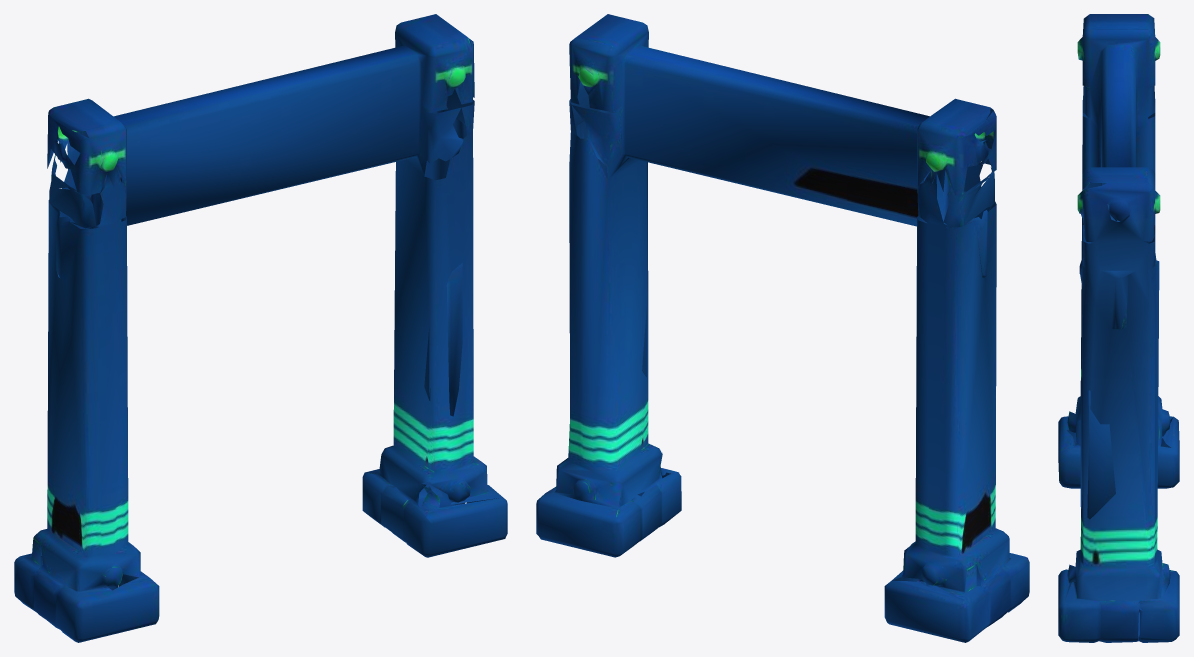
Rendered from gate_tall.glb.
The picture shows the model from 3 angles, left to right: view 1: azimuth 30°, elevation 25°; view 2: azimuth 150°, elevation 25°; view 3: azimuth 270°, elevation 25°; orthographic projection. The views are drawn at different scales.
Visible parts, largest first — view 1: Mesh1.0; view 2: Mesh1.0; view 3: Mesh1.0.
Part boxes in pixels (box(x1,y1,x2,y2)): Mesh1.0: box(14, 14, 507, 642); Mesh1.0: box(536, 14, 1029, 642); Mesh1.0: box(1058, 14, 1179, 642).
Bounding box in the file's own units: 1.74 × 1.91 × 0.4658.
1 material, 1 textured.
